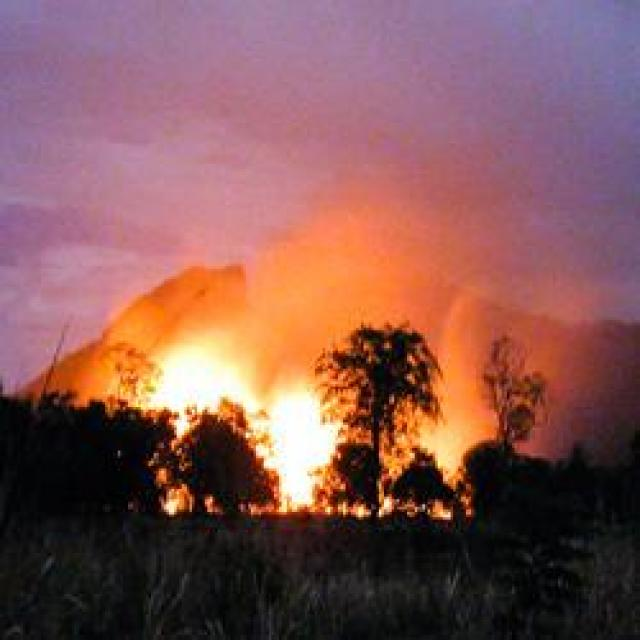fire: (266, 389, 341, 512), (154, 348, 267, 418)
smoke: (242, 260, 346, 362), (436, 317, 484, 468), (101, 294, 195, 350)
